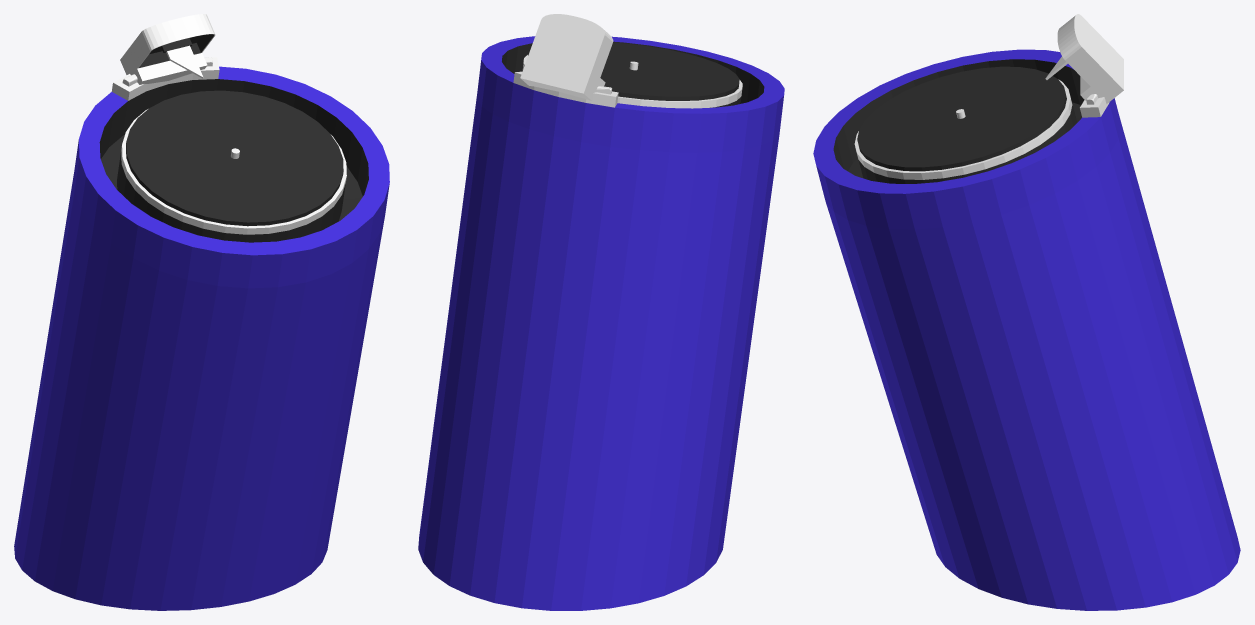
The model's file is Cutting Machine.fbx.
The picture shows the model from 3 angles, left to right: view 1: azimuth 30°, elevation 25°; view 2: azimuth 150°, elevation 25°; view 3: azimuth 270°, elevation 25°; orthographic projection. The views are drawn at different scales.
Visible parts, largest first — view 1: Record Cutter Base, Record Cutter Knife Holder, Record Cutter Hinge, Record Cutter Knife; view 2: Record Cutter Base, Record Cutter Knife Holder, Record Cutter Hinge; view 3: Record Cutter Base, Record Cutter Knife Holder.
Part boxes in pixels (<box>): Record Cutter Base: <box>14,66,389,610</box>; Record Cutter Knife Holder: <box>120,14,215,84</box>; Record Cutter Hinge: <box>111,57,219,100</box>; Record Cutter Knife: <box>161,38,203,78</box>; Record Cutter Base: <box>418,36,784,610</box>; Record Cutter Knife Holder: <box>520,14,613,100</box>; Record Cutter Hinge: <box>513,71,618,107</box>; Record Cutter Base: <box>813,49,1240,610</box>; Record Cutter Knife Holder: <box>1057,14,1123,104</box>.
Bounding box in the file's own units: 135 × 255 × 187.
